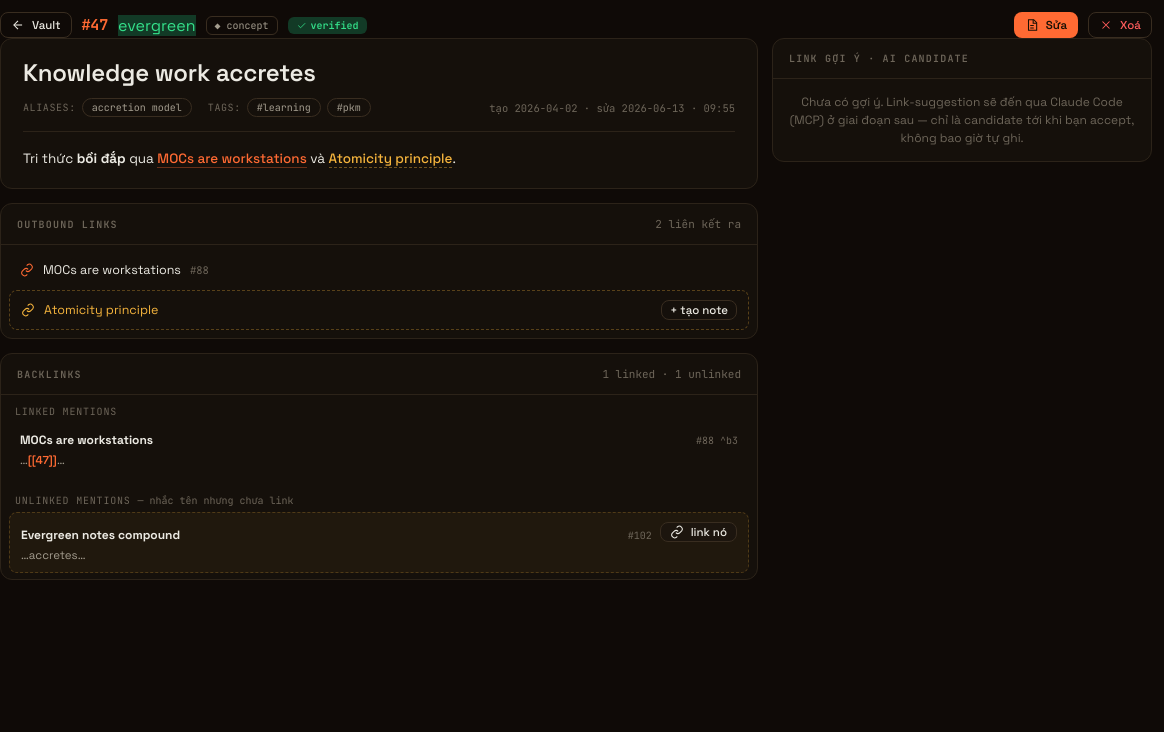
Scenario: W2 Note view/edit › edit → save: PUTs the edit then refetches (server-truth, not optimistic)
Click the button with test id "wiki-edit-btn": (1046, 25) [1014,12,1078,38]
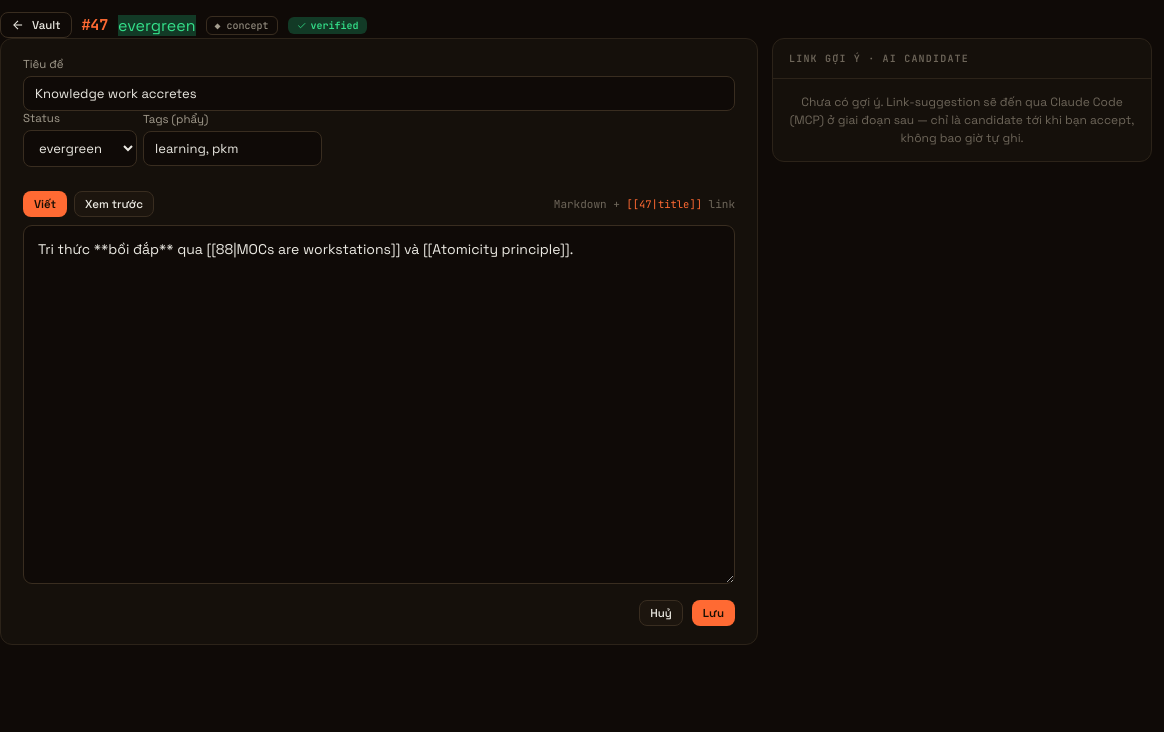
Replace the text in the field with test id "wiki-edit-title" with "Renamed": (379, 94) [23,76,735,111]
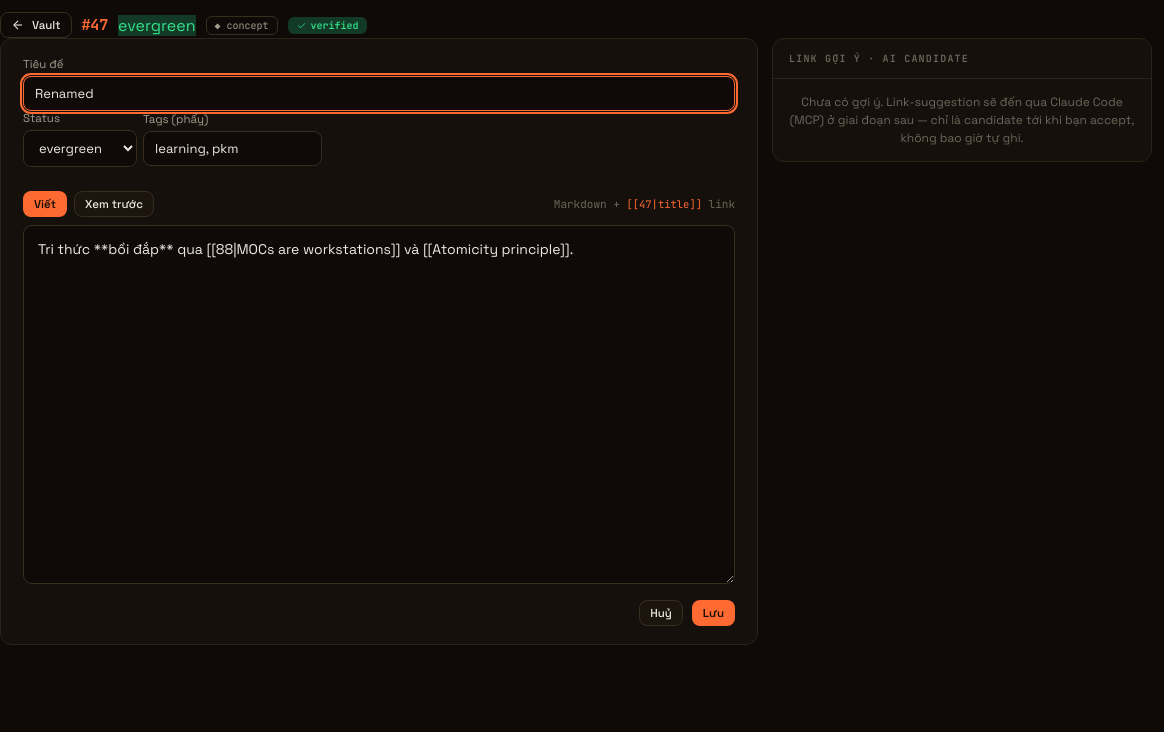
Click the button with test id "wiki-edit-save": (713, 613) [692,600,735,626]
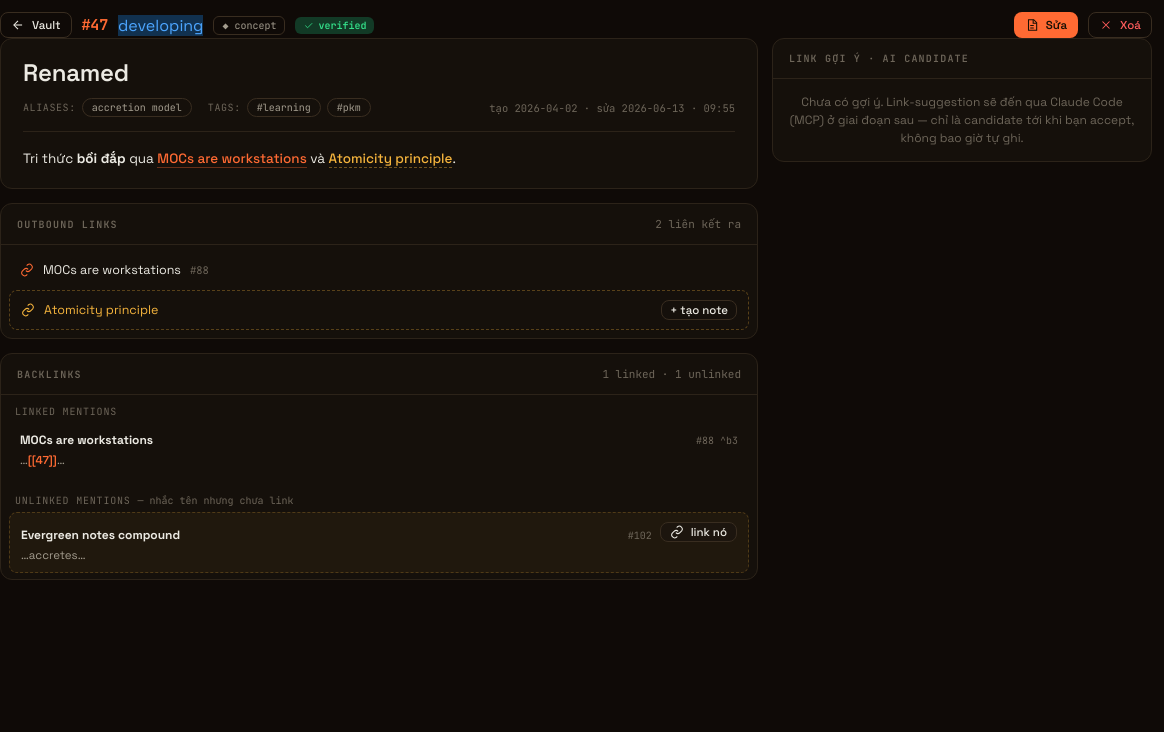
Check: the text "Renamed" is shown, box [23,57,129,88]
Check: the text with test id "wiki-title" reads "Renamed", box [23,57,129,88]
